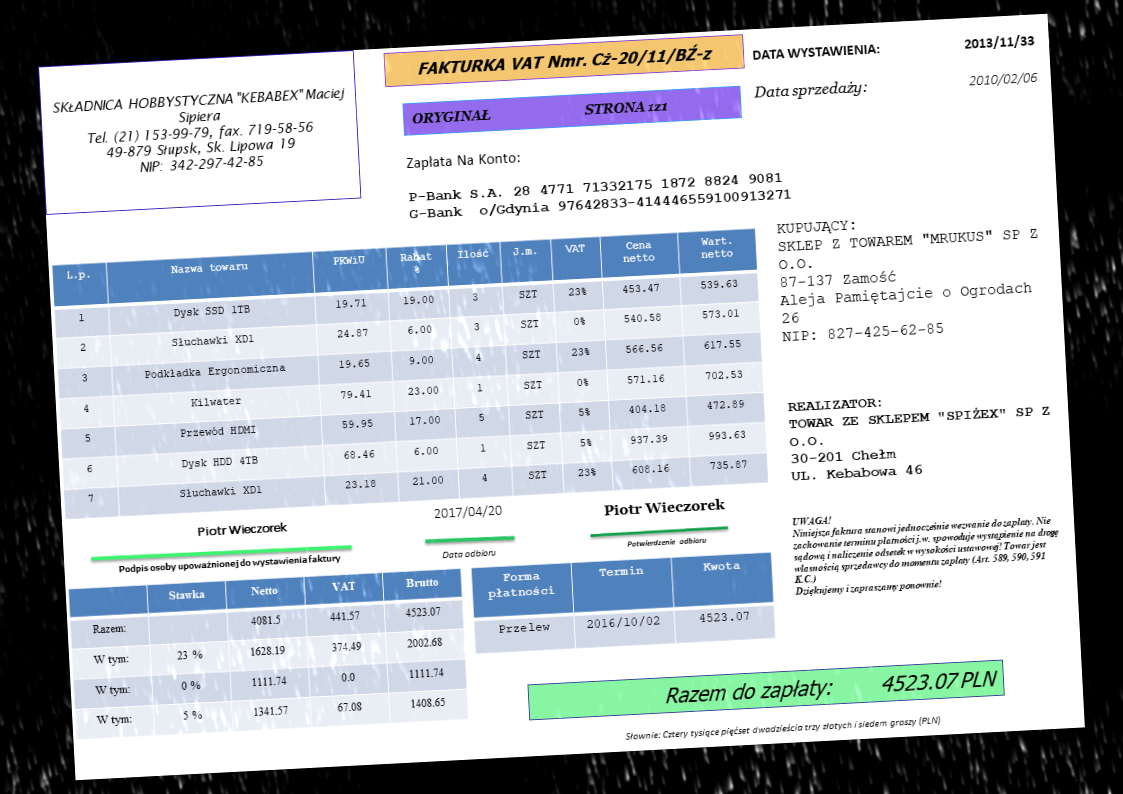Table: (49, 225, 770, 521), (66, 566, 470, 742), (469, 549, 777, 655)
TextBox: (773, 205, 1048, 348), (49, 82, 352, 182), (787, 499, 1067, 601), (785, 385, 1057, 486), (405, 168, 796, 225), (661, 665, 1001, 707), (414, 40, 719, 81), (621, 712, 943, 744), (409, 94, 670, 127), (115, 550, 343, 578), (751, 74, 873, 104), (750, 40, 882, 64), (403, 148, 525, 173), (601, 496, 727, 518), (192, 518, 292, 540), (431, 501, 504, 524), (960, 32, 1039, 53), (964, 69, 1041, 89), (624, 534, 708, 550), (438, 545, 497, 562)
